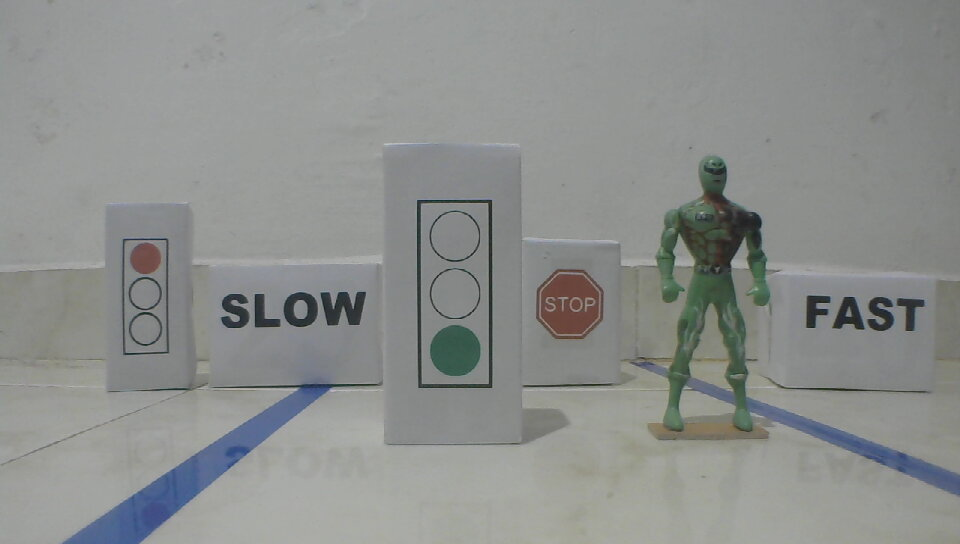Fast: (805, 292, 927, 333)
Green Traffic Light: (414, 195, 496, 392)
Person: (657, 153, 775, 439)
Red Traffic Light: (119, 236, 173, 359)
Slow: (219, 289, 369, 331)
Stop Sign: (533, 267, 607, 342)
